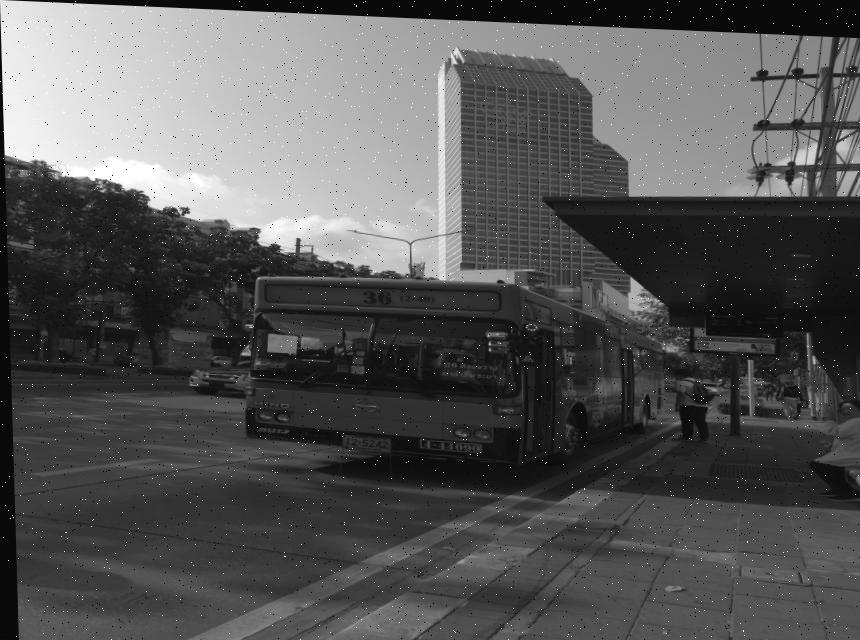BMTA-bus: (240, 274, 665, 464)
Bus Line Number: (357, 284, 437, 307)
Bus Side Number: (416, 436, 480, 451)
Destination Sign: (440, 356, 504, 380)
